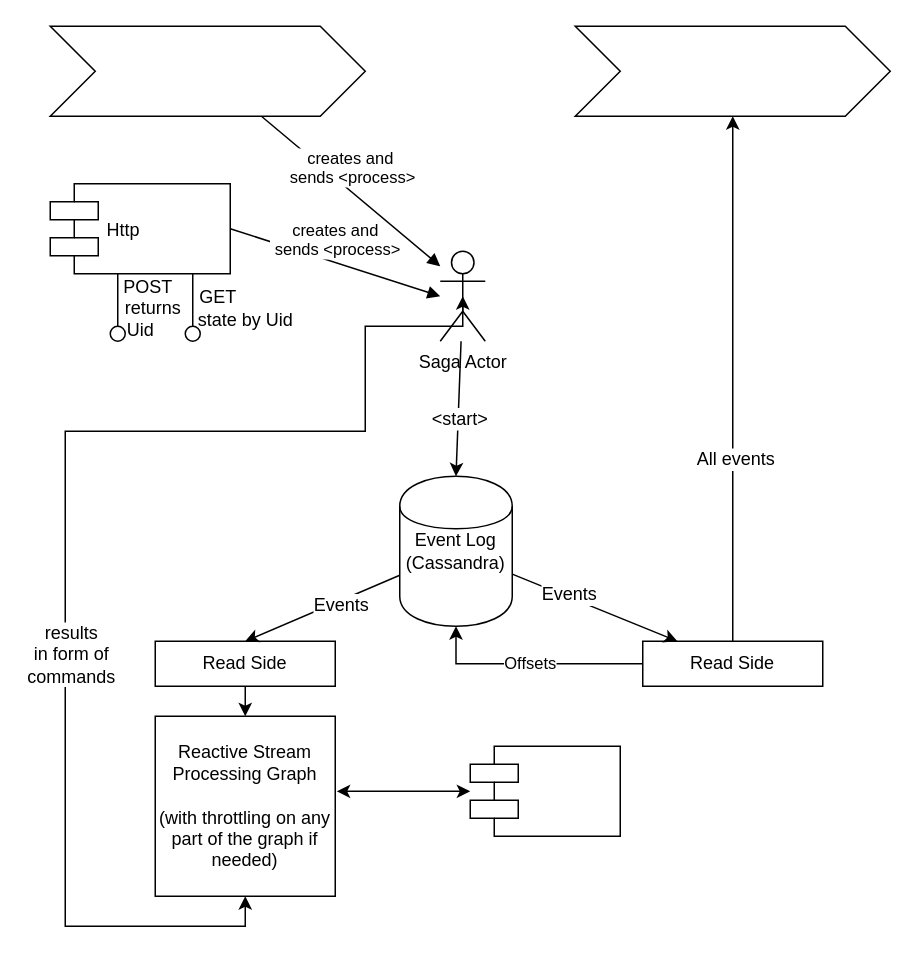
The diagram is 917 pixels wide and 966 high, and some of its shapes have lost their labels. The shapes that lost their labels are listed below. From the top down, each one's centre as x and y in pixels, then its label:
(207,70): Message Broker Topic <requests> (Kafka)
(732,70): Message Broker Topic <events> (Kafka)
(544,790): Some service
